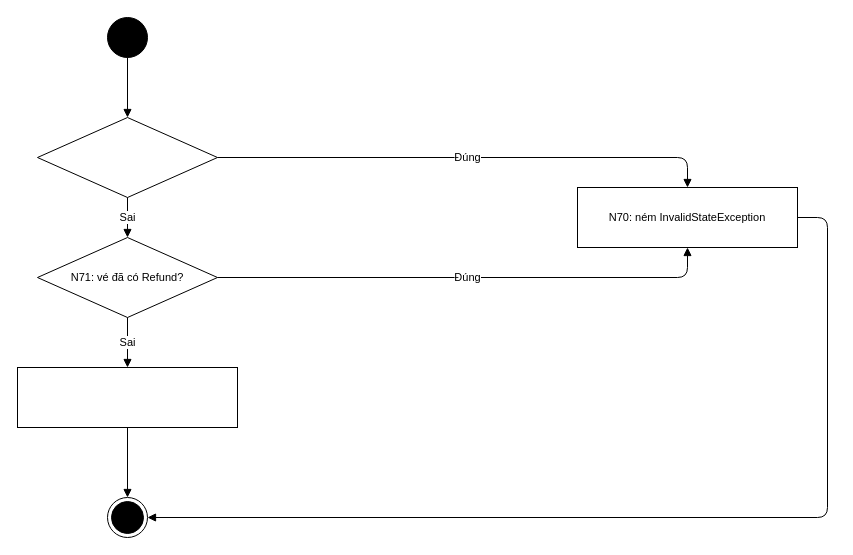
The diagram is 853 pixels wide and 555 high, and some of its shapes have lost their labels. The centre of each missing label's shape, as x and y in pixels:
"N69: status khác CANCELLED?" goes at point 127,157.
"N72: refund = Refund.createRefund(amount, rate, method, outcome); trả refund" goes at point 127,397.
